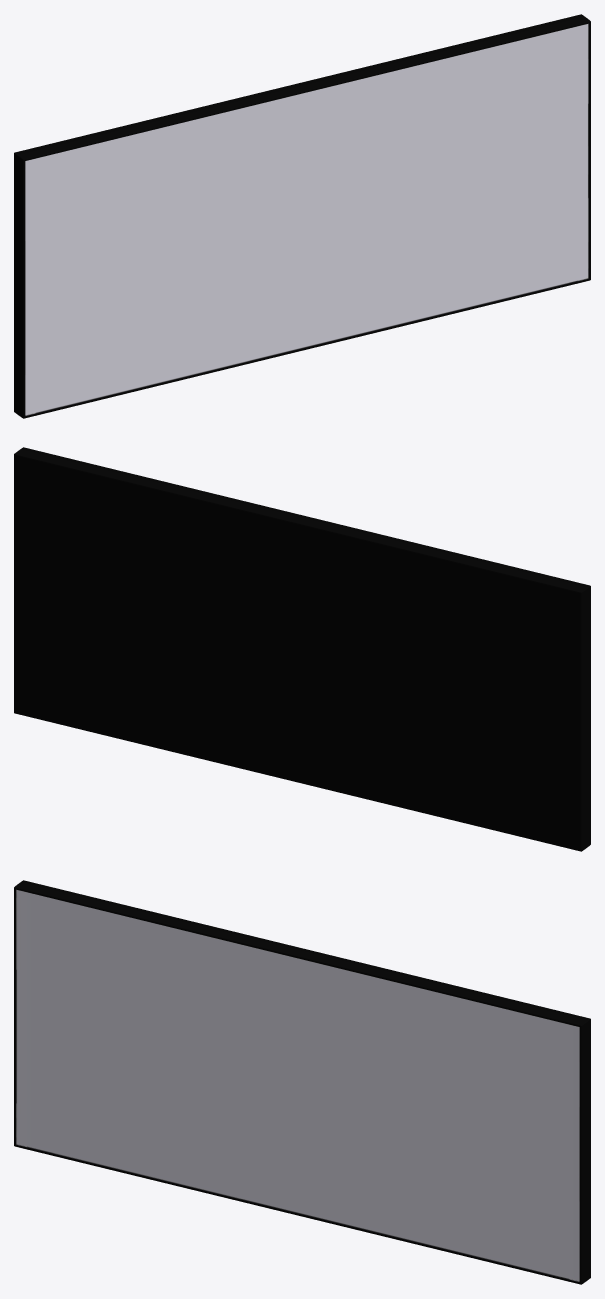
File: table_B07H8T878F.glb
3 renders of one model, top to bottom at view 1: azimuth 30°, elevation 25°; view 2: azimuth 150°, elevation 25°; view 3: azimuth 330°, elevation 25°, orthographic.
Visible parts, largest first — view 1: RootNode; view 2: RootNode; view 3: RootNode.
Boxes of the visible parts, x1,y1,x2,y2 form: RootNode: [14, 14, 590, 418]; RootNode: [14, 447, 590, 851]; RootNode: [14, 880, 590, 1284].
Bounding box in the file's own units: 1.58 × 0.6918 × 0.0466.
1 material, 1 textured.
